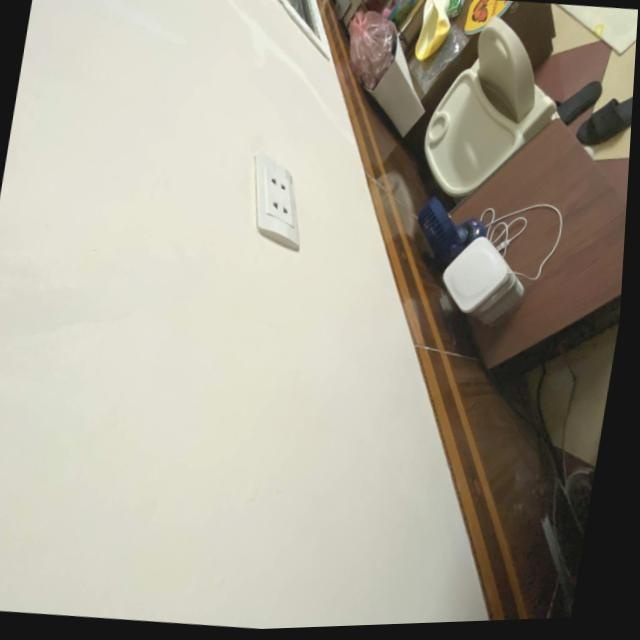outlet: (237, 148, 314, 253)
